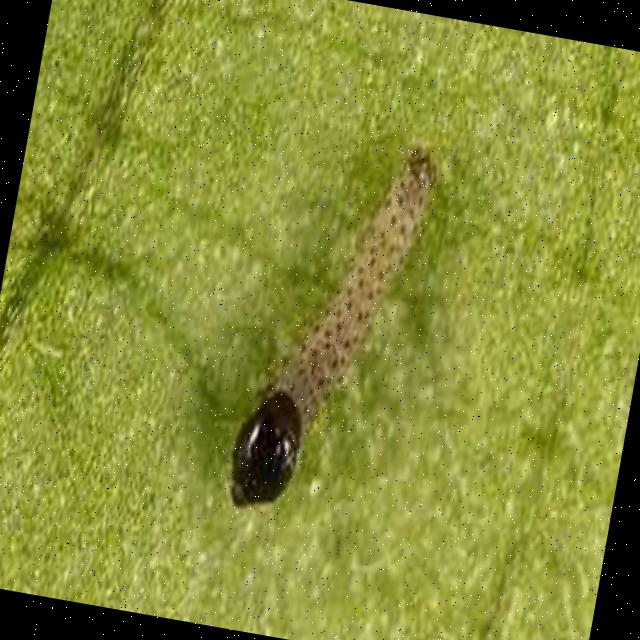worm: (221, 125, 443, 536)
